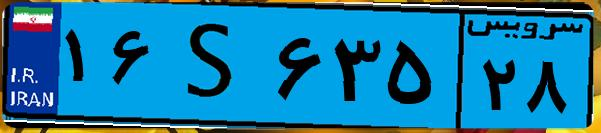1: (57, 26, 110, 100)
2: (475, 38, 525, 113)
3: (330, 28, 385, 110)
5: (385, 28, 445, 110)
6: (270, 28, 330, 110), (110, 28, 158, 98)
8: (525, 38, 570, 115)
S: (158, 12, 270, 120)
